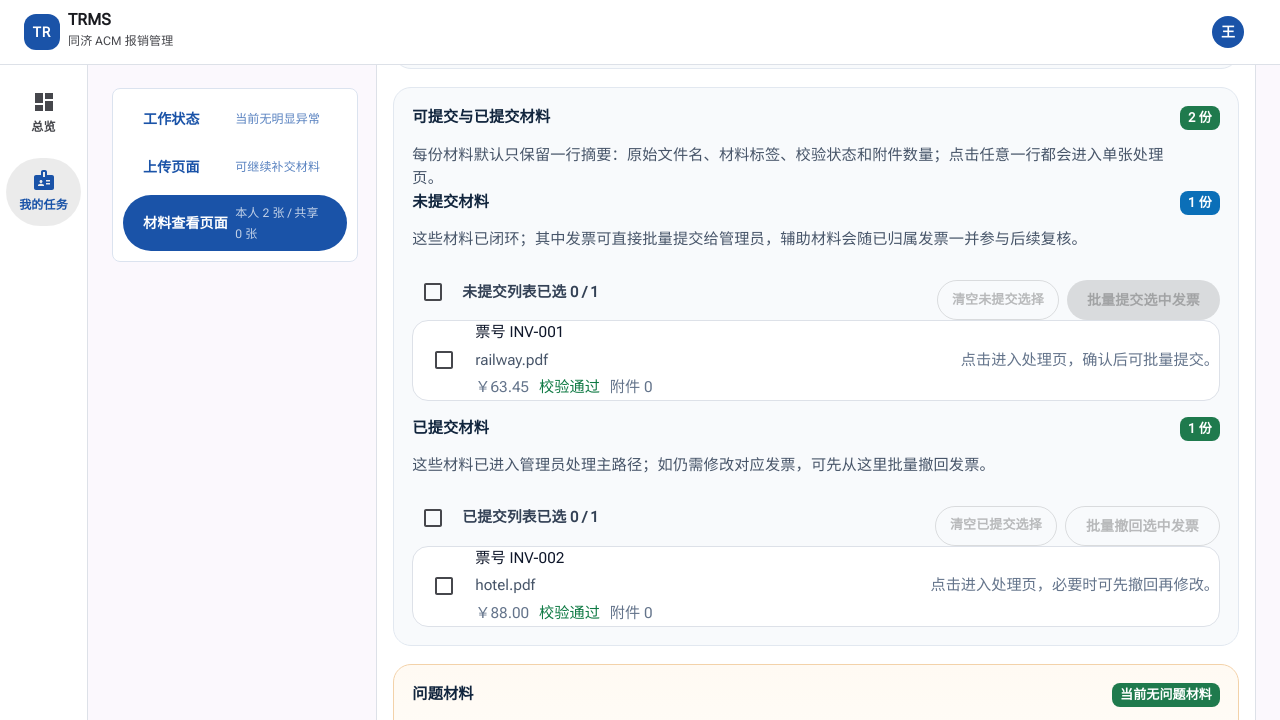
Scenario: MemberInvoiceWorkbenchPage batch submission › keeps submitted and unsubmitted selection states independent
The image size is (1280, 720).
(page scrolled)
expect the button with aria-label "未提交材料 railway.pdf INV-001" is shown: met, box [475,321,1219,400]
expect the button with aria-label "已提交材料 hotel.pdf INV-002" is shown: met, box [475,547,1219,626]
Click the checkbox named "批量选择发票 INV-001" at (444, 360), box [432,348,456,372]
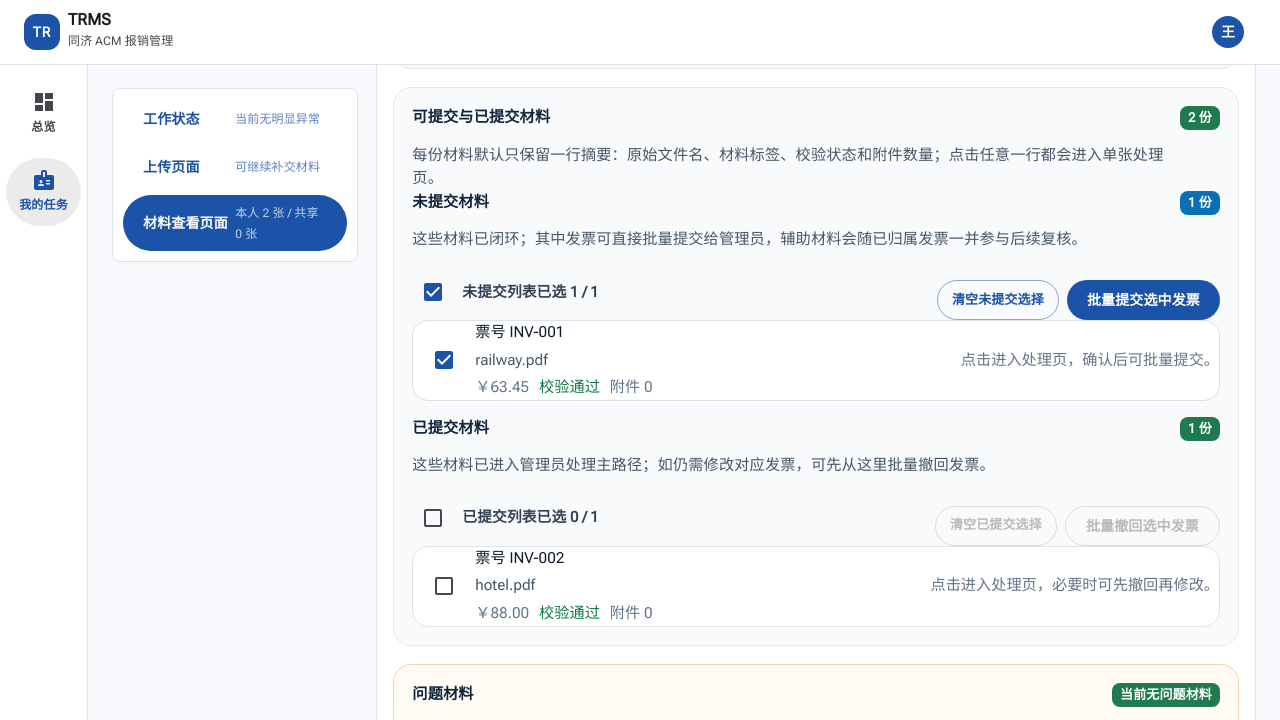
expect the text "未提交列表已选 1 / 1" is shown: met, box [462,281,599,303]
expect the button "清空未提交选择" is enabled: met, box [937,280,1059,320]
expect the button "批量提交选中发票" is enabled: met, box [1067,280,1220,320]
Click the checkbox named "批量选择发票 INV-002" at (444, 586), box [432,574,456,598]
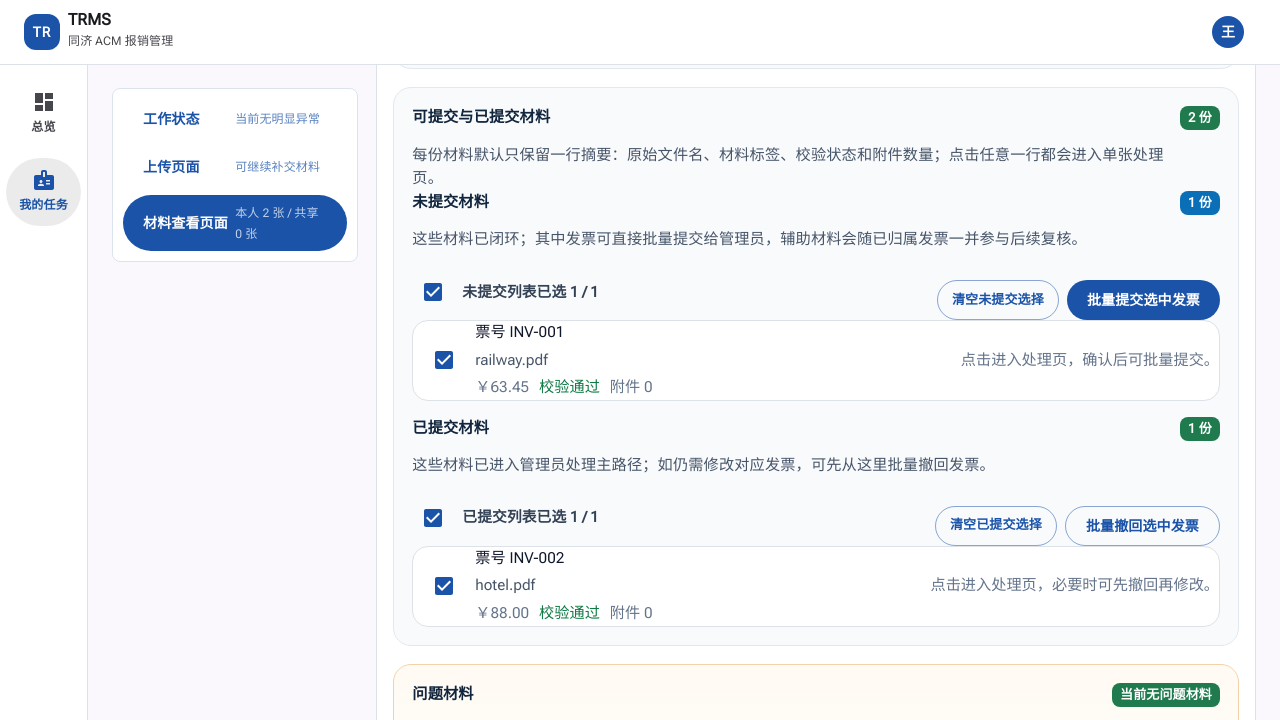
expect the text "未提交列表已选 1 / 1" is shown: met, box [462,281,599,303]
expect the text "已提交列表已选 1 / 1" is shown: met, box [462,506,599,529]
expect the button "清空已提交选择" is enabled: met, box [935,506,1057,546]
